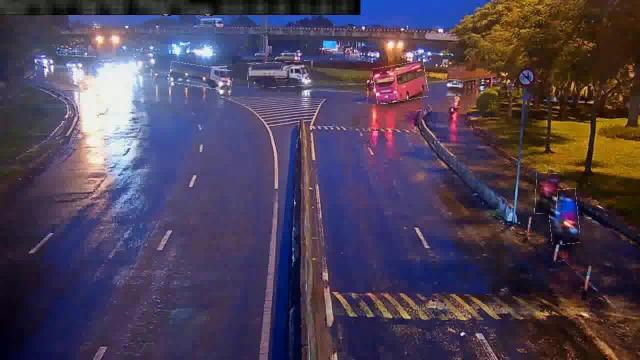Bike: (548, 189, 580, 244), (535, 173, 557, 214)
Bus: (373, 62, 427, 102)
Truck: (248, 61, 312, 87), (170, 63, 232, 88)
